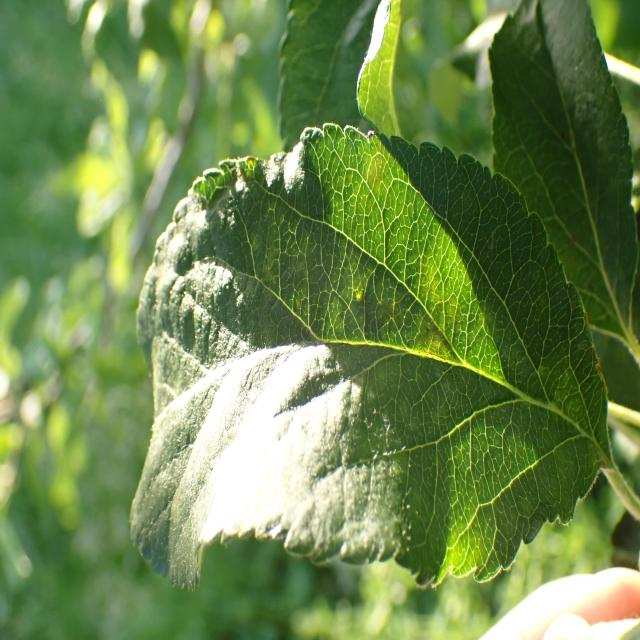scab: (152, 138, 570, 561)
